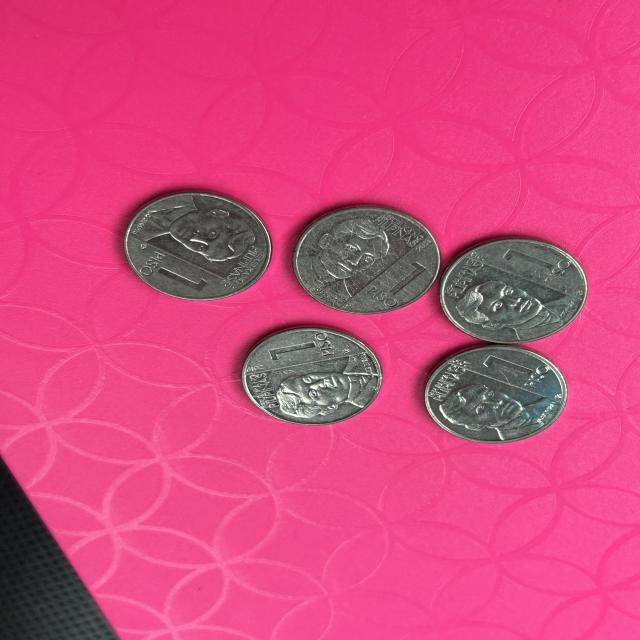1_New_Front: (496, 238, 572, 285), (480, 344, 550, 393), (137, 244, 204, 295), (363, 255, 425, 308), (262, 330, 336, 368)
